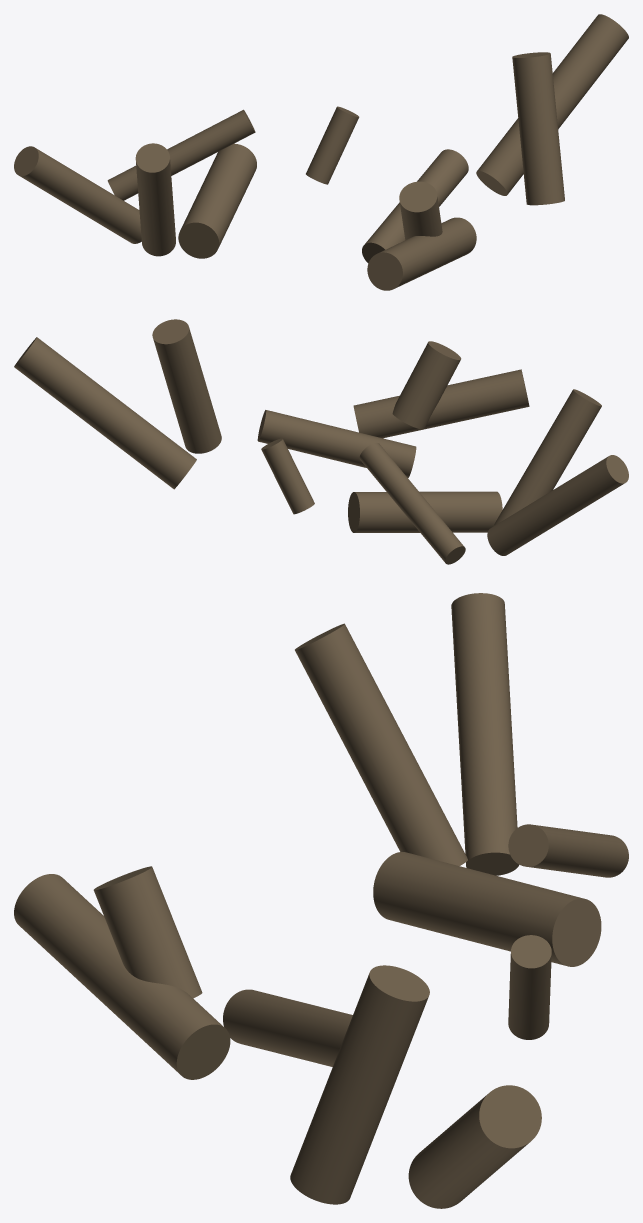
Rendered from f24-deadfall-branch-pile.glb.
The picture shows the model from 3 angles, top to bottom: view 1: azimuth 30°, elevation 25°; view 2: azimuth 150°, elevation 25°; view 3: azimuth 270°, elevation 25°; orthographic projection. The views are drawn at different scales.
Parts seen in each view (by area): view 1: part6, part5, part8, part0, part9, part7, part4, part2, part1, part3; view 2: part5, part9, part6, part0, part8, part7, part2, part4, part1, part3; view 3: part6, part9, part8, part0, part7, part5, part1, part2, part4, part3.
Part boxes in pixels (<box>): part6: <box>512,52,564,205</box>; part5: <box>476,14,628,195</box>; part8: <box>178,143,256,258</box>; part0: <box>14,146,141,243</box>; part9: <box>367,217,476,290</box>; part7: <box>135,143,175,256</box>; part4: <box>107,109,255,200</box>; part2: <box>362,149,468,263</box>; part1: <box>399,181,442,240</box>; part3: <box>306,106,359,184</box>; part5: <box>14,337,196,489</box>; part9: <box>353,369,529,438</box>; part6: <box>152,319,221,453</box>; part0: <box>487,455,628,555</box>; part8: <box>348,491,502,532</box>; part7: <box>494,389,601,525</box>; part2: <box>257,410,416,477</box>; part4: <box>359,442,465,564</box>; part1: <box>392,341,461,429</box>; part3: <box>261,438,314,514</box>; part6: <box>290,965,429,1204</box>; part9: <box>14,874,230,1079</box>; part8: <box>373,852,601,966</box>; part0: <box>451,593,518,875</box>; part7: <box>295,623,467,865</box>; part5: <box>408,1085,541,1208</box>; part1: <box>93,866,202,998</box>; part2: <box>223,989,352,1066</box>; part4: <box>508,824,628,877</box>; part3: <box>508,935,551,1039</box>.
Bounding box in the file's own units: 2989 × 773 × 1563.
